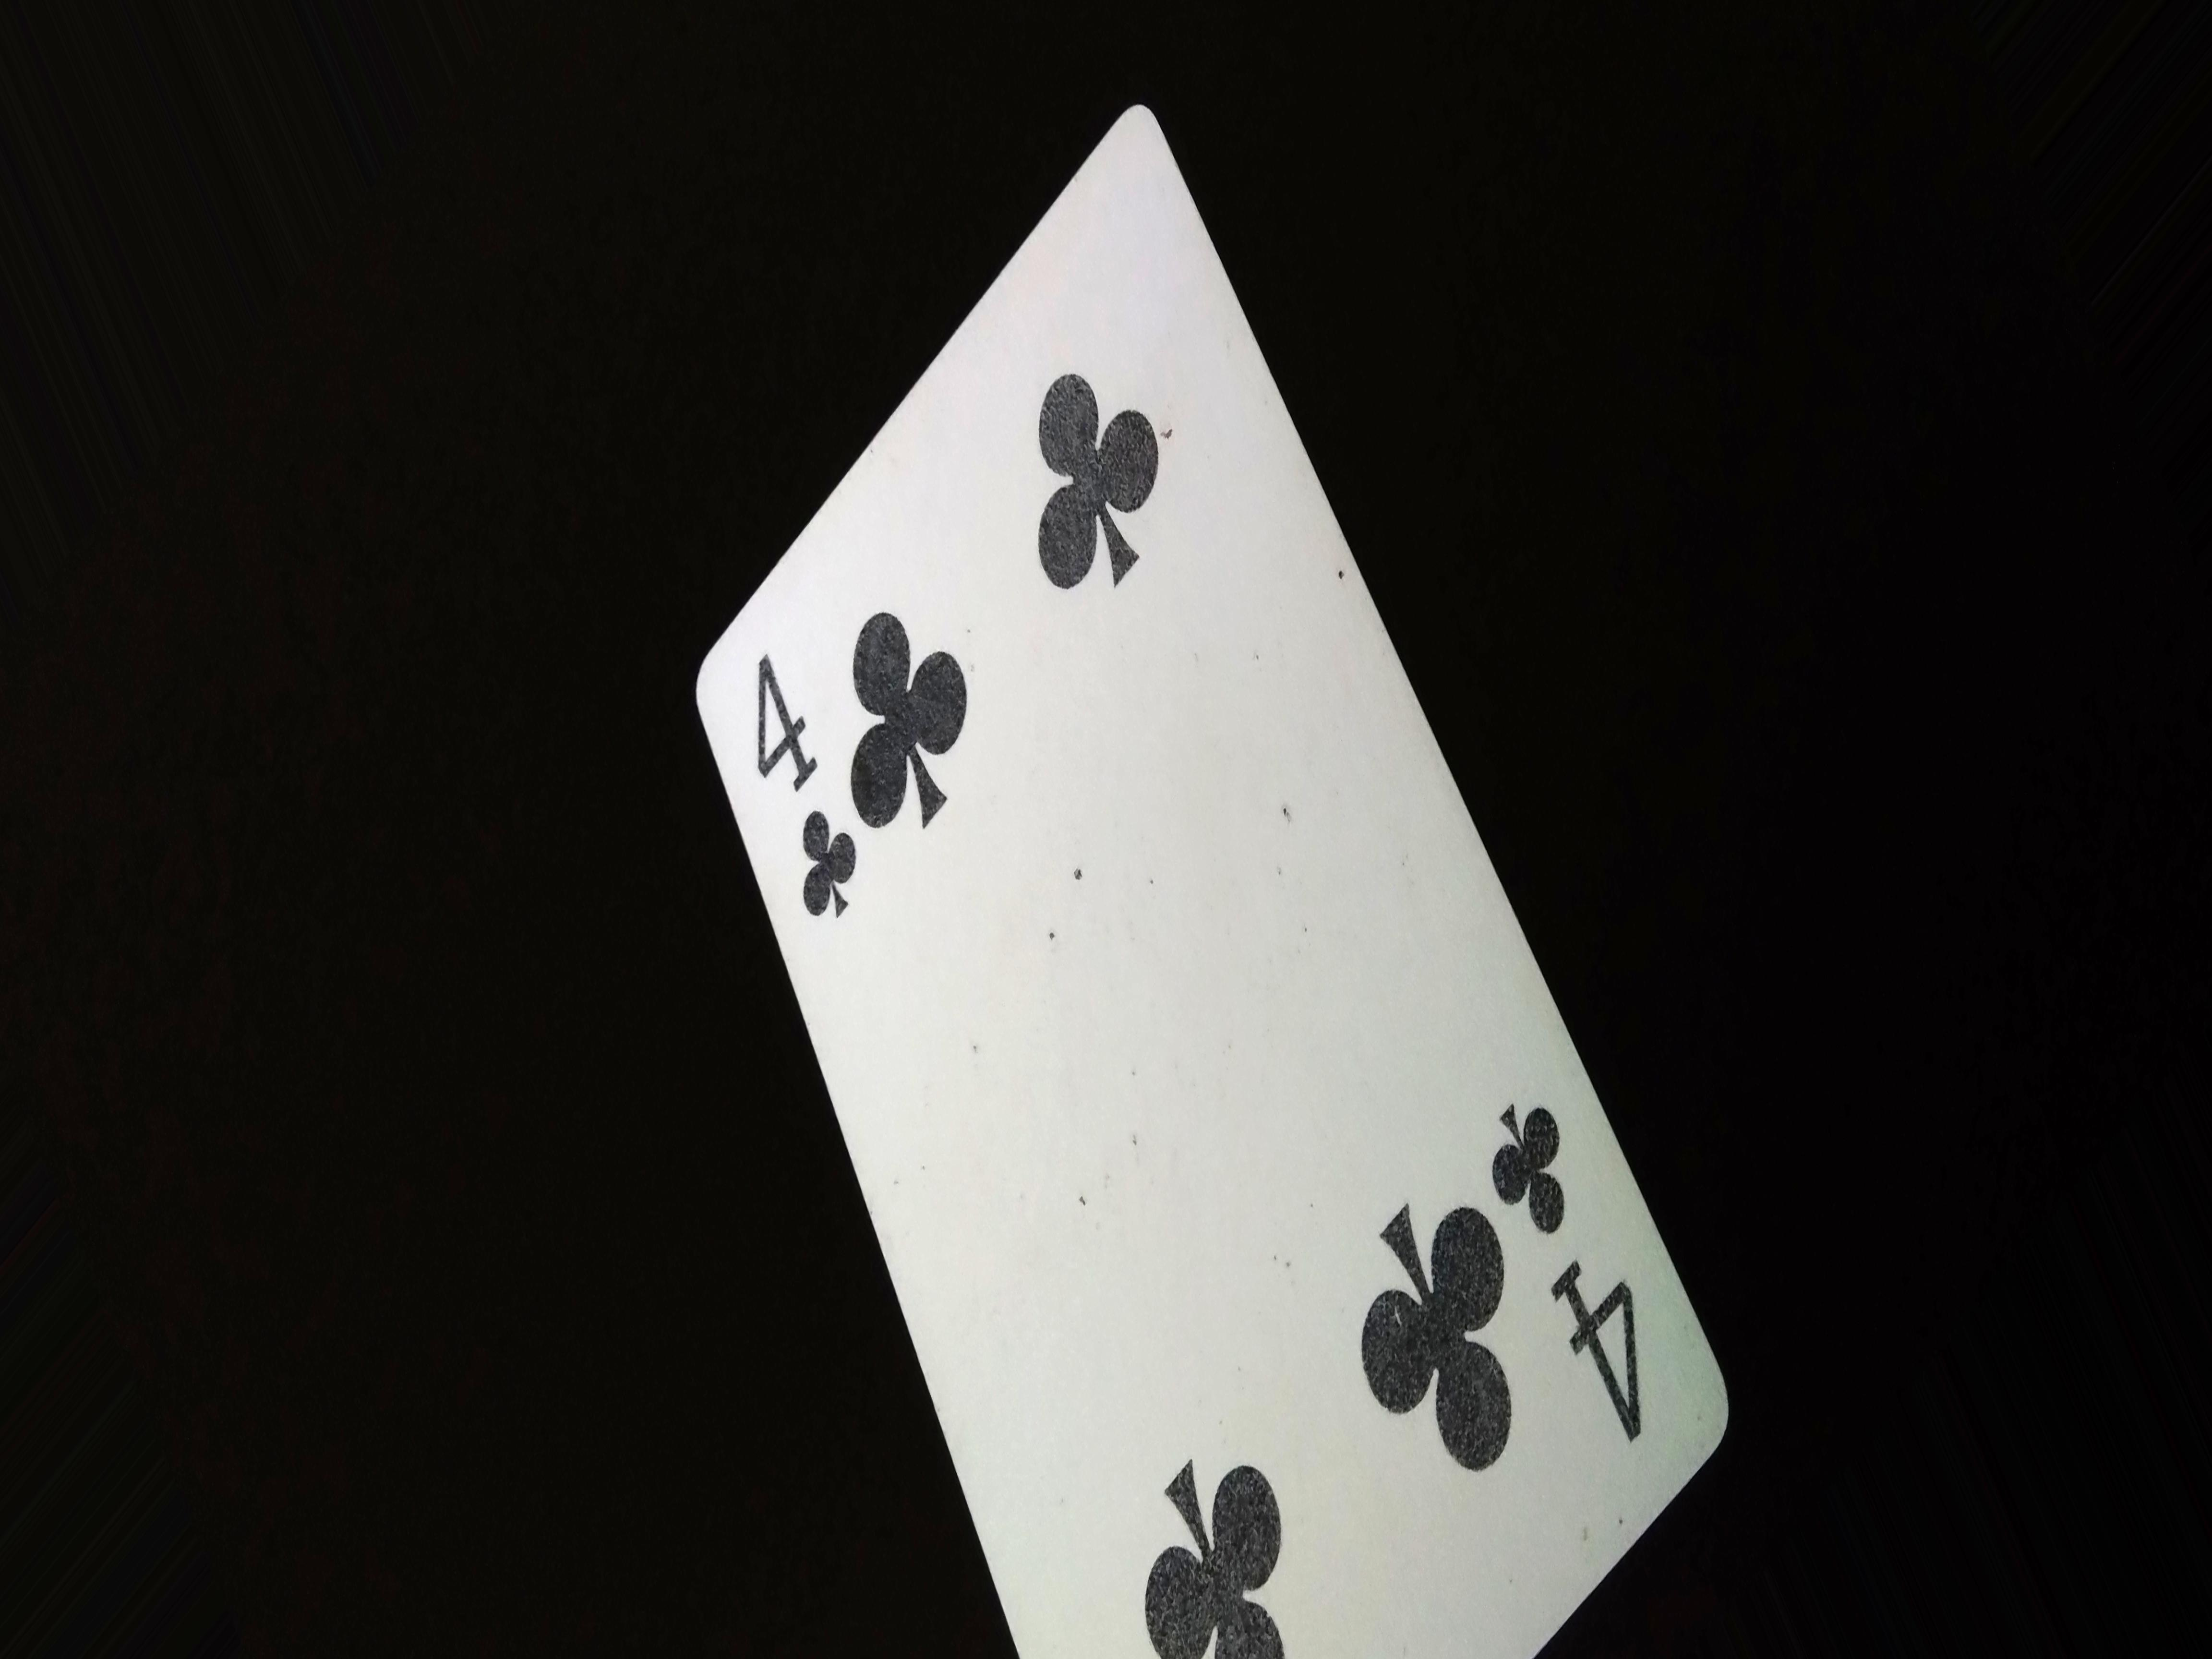4C: (751, 653, 855, 934)
